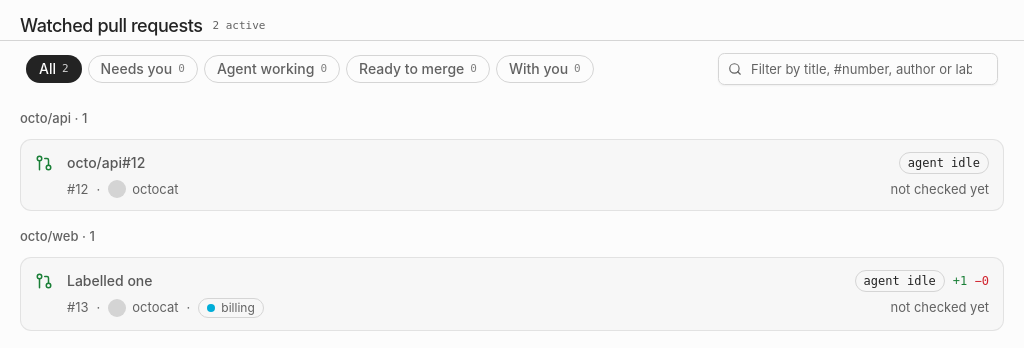
Test: the search also finds a watch by its repository and its labels
The width and height of the screenshot is (1024, 348).
Type "octo/api" into the search field named "Filter by title, number, author, repository or label" at (858, 69), box [718,53,998,85]
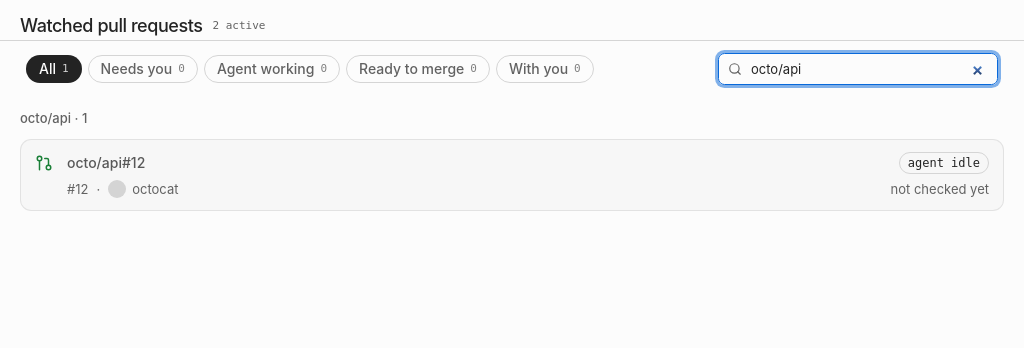
expect the button "octo/api#12 agent idle #12 · octocat not checked yet" is shown: met, box [20,138,1004,211]
expect the button "Labelled one" is gone: met
Replace the text in the search field named "Filter by title, number, author, repository or label" with "BILLING" at (858, 69), box [718,53,998,85]
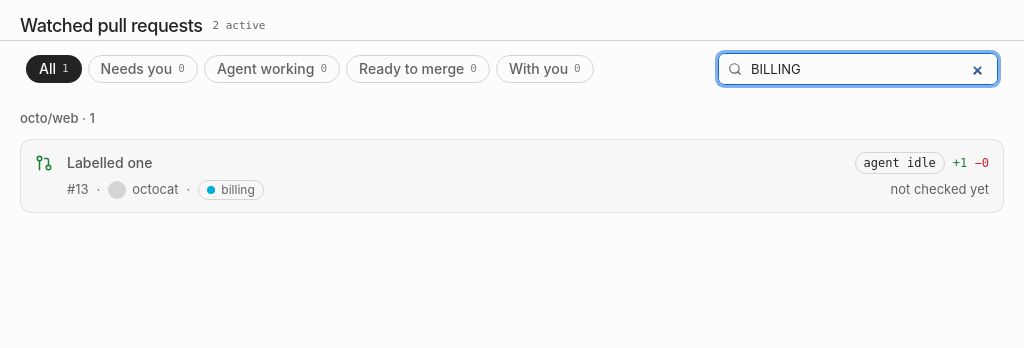
expect the text "Labelled one" is shown: met, box [67,153,152,172]
expect the button "octo/api#12" is gone: met
